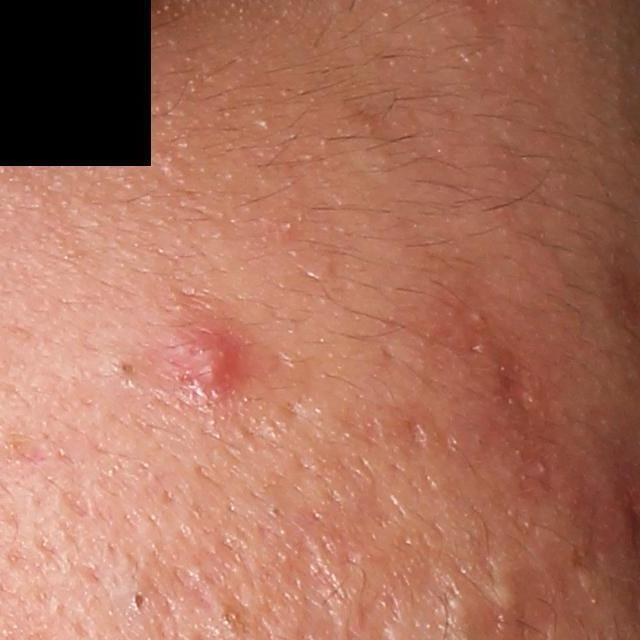atrophic_scar: (486, 335, 538, 412), (60, 485, 94, 518), (405, 414, 430, 452)
comedo: (107, 352, 140, 384), (128, 590, 153, 615)
papule: (158, 306, 248, 395)
